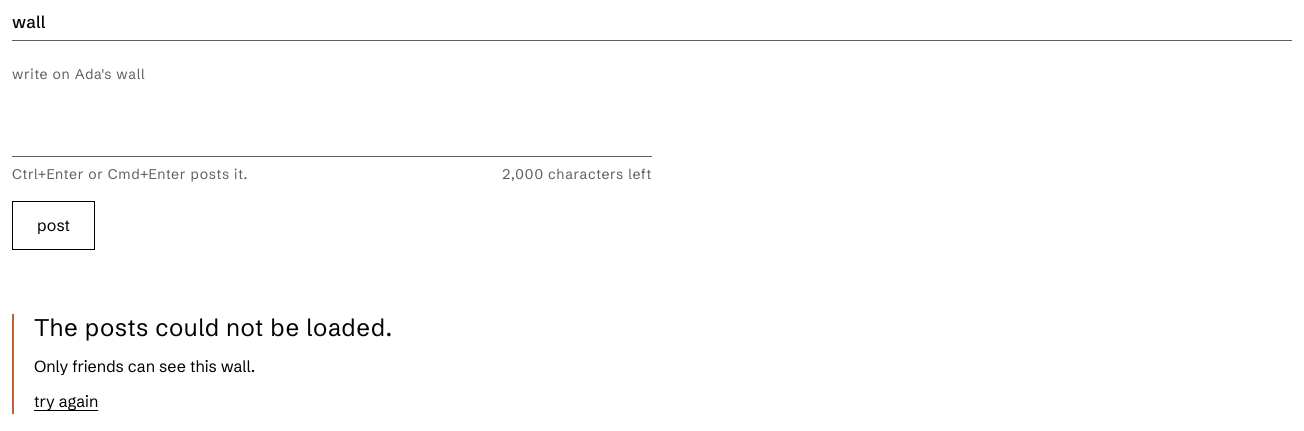
Test: Wall › F-105: a failed load shows the reason and "try again" loads the posts
This screenshot has width=1304, height=431.
Expected: the message shows "The posts could not be loaded.", [34,313,393,342]
Expected: the message shows "Only friends can see this wall.", [34,356,255,376]
Click the button "try again". click: (66, 402)
box: [34,390,98,414]
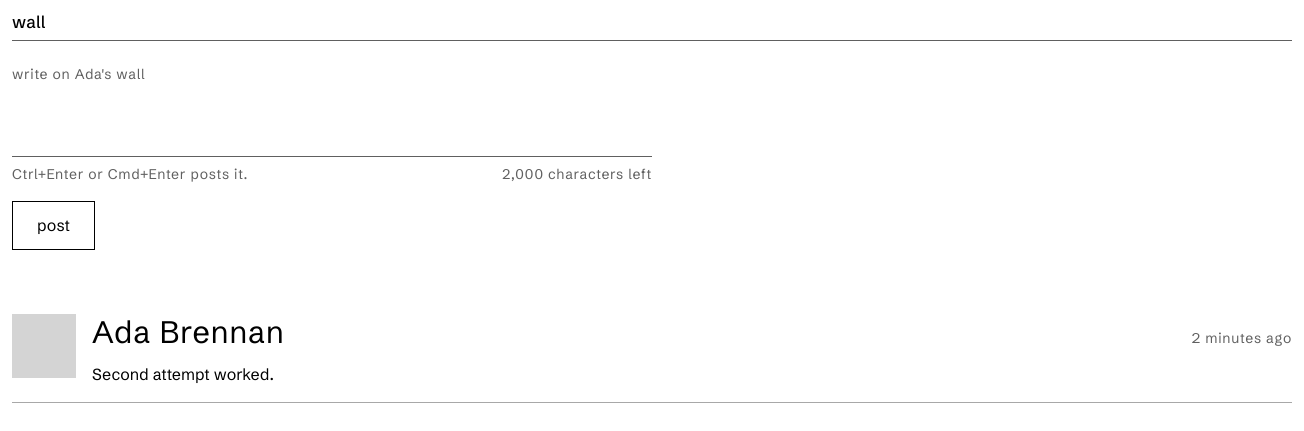
Now the text "Second attempt worked." is shown, box [92,363,274,386]
